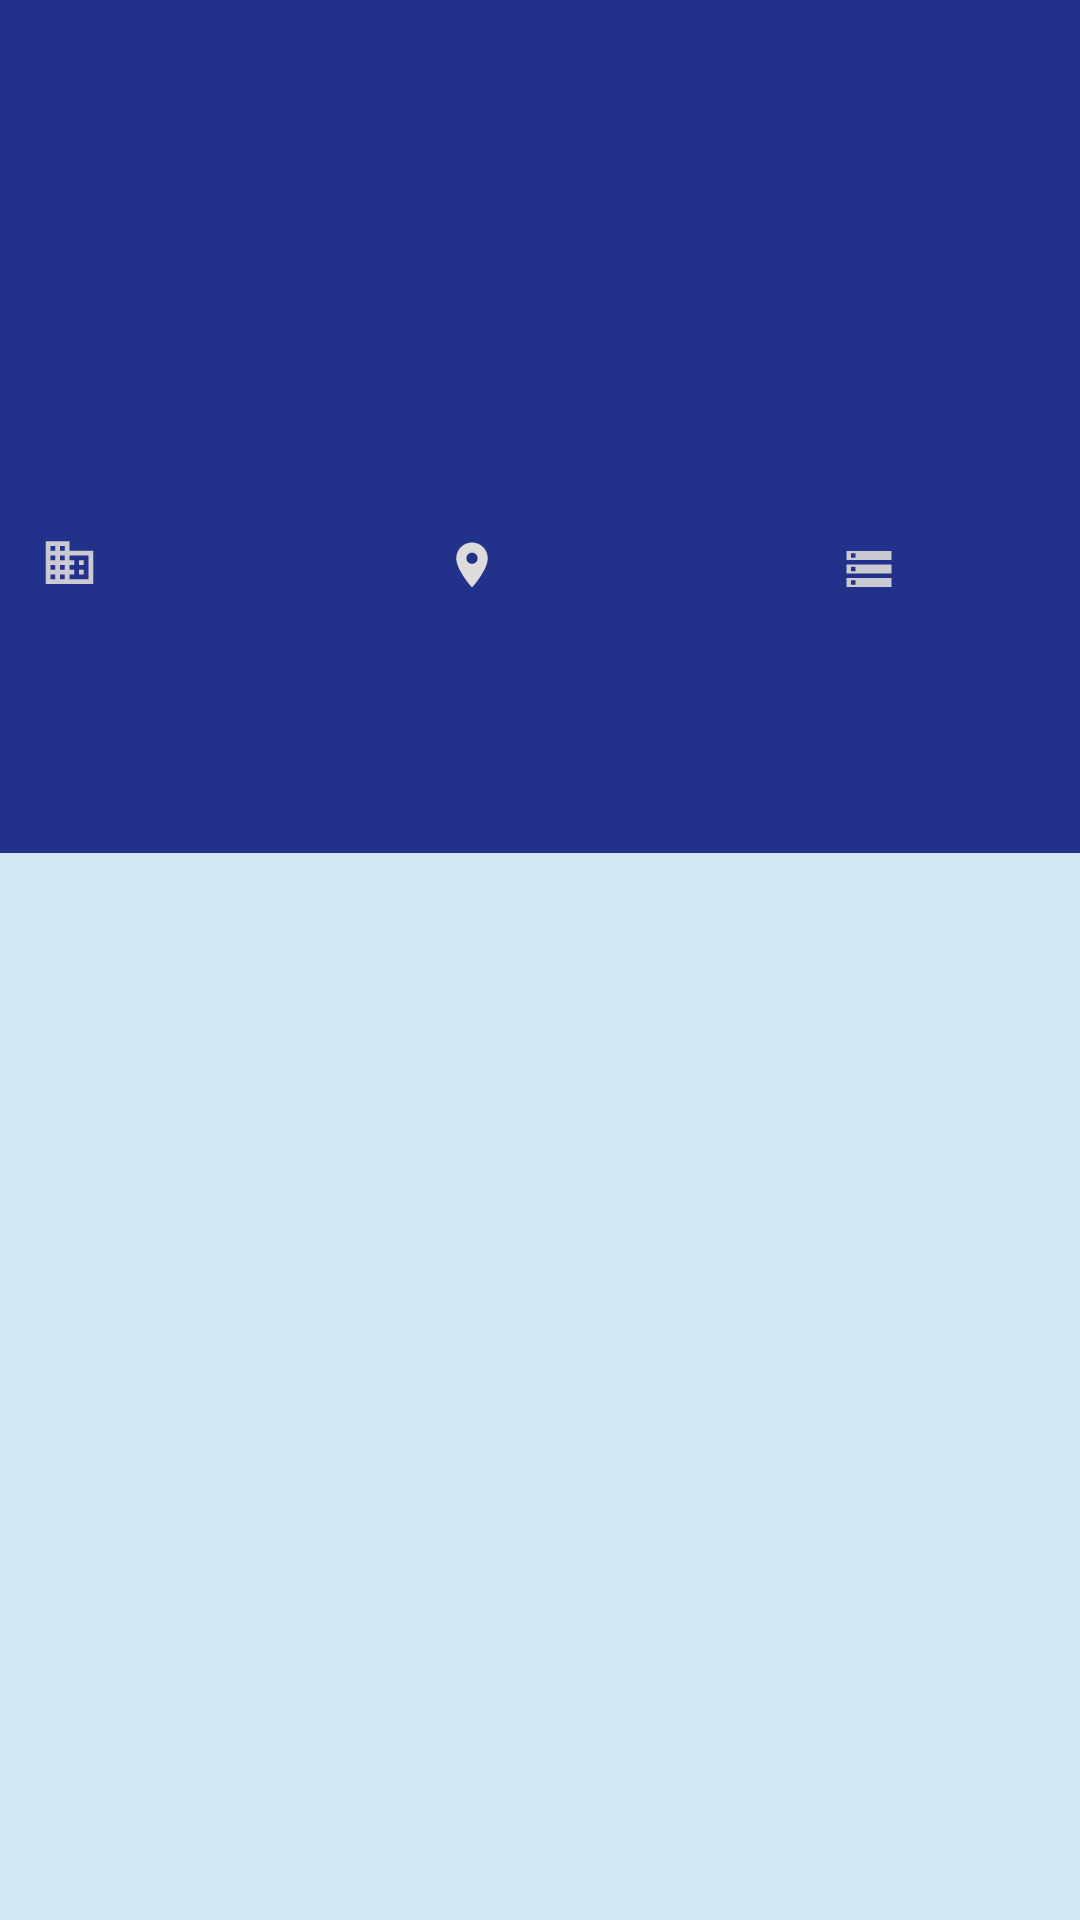

Named icons in this screenshot (1080px x 1920px) and their centers, [x,y]:
company: [69,562]
location: [472,564]
repository: [869,569]
